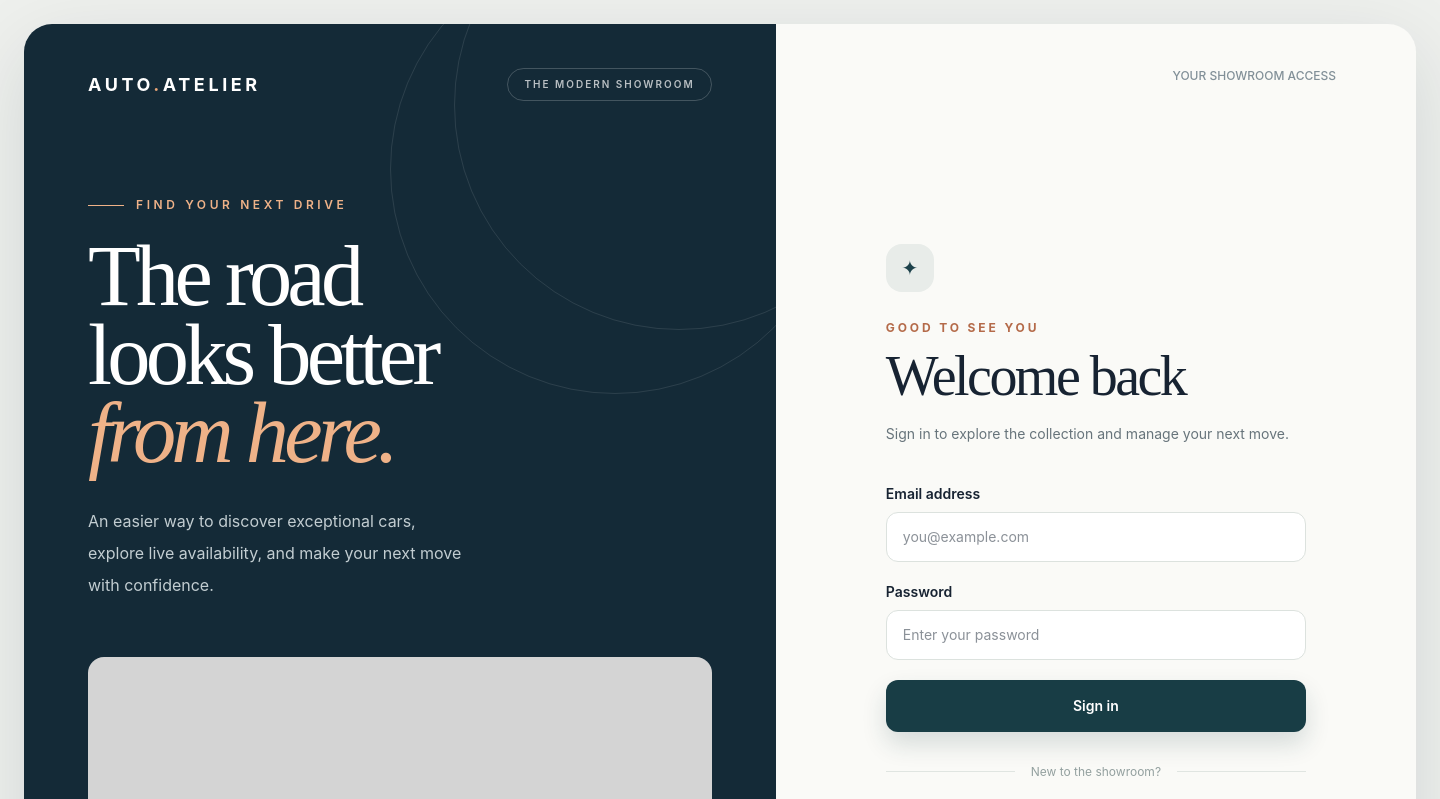
Scenario: authentication API › shows an error for incorrect credentials
In the field labelled "Email address": (1096, 537) [886,512,1306,562], type "driver@example.com"
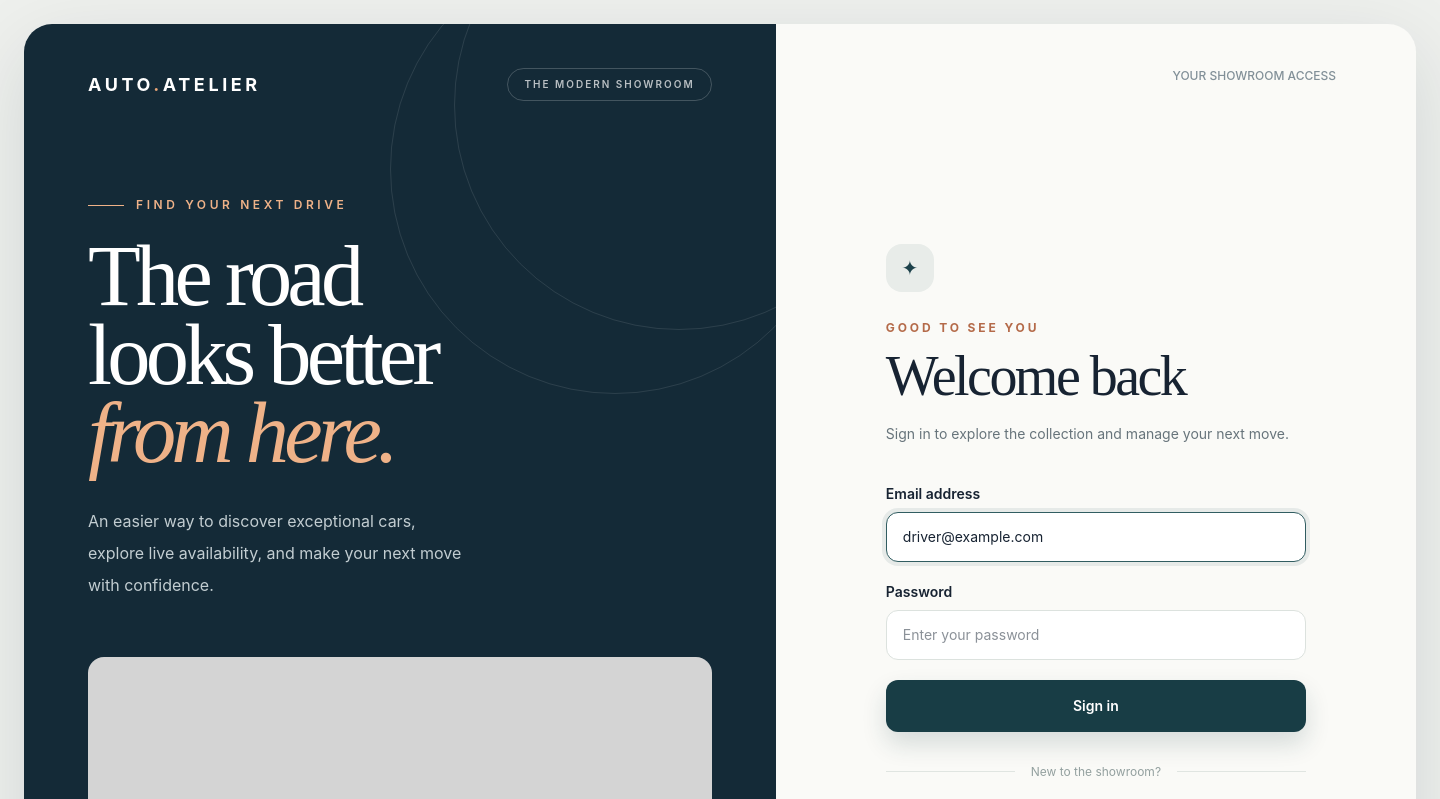
In the password field labelled "Password": (1096, 635) [886,610,1306,660], type "wrong-password"
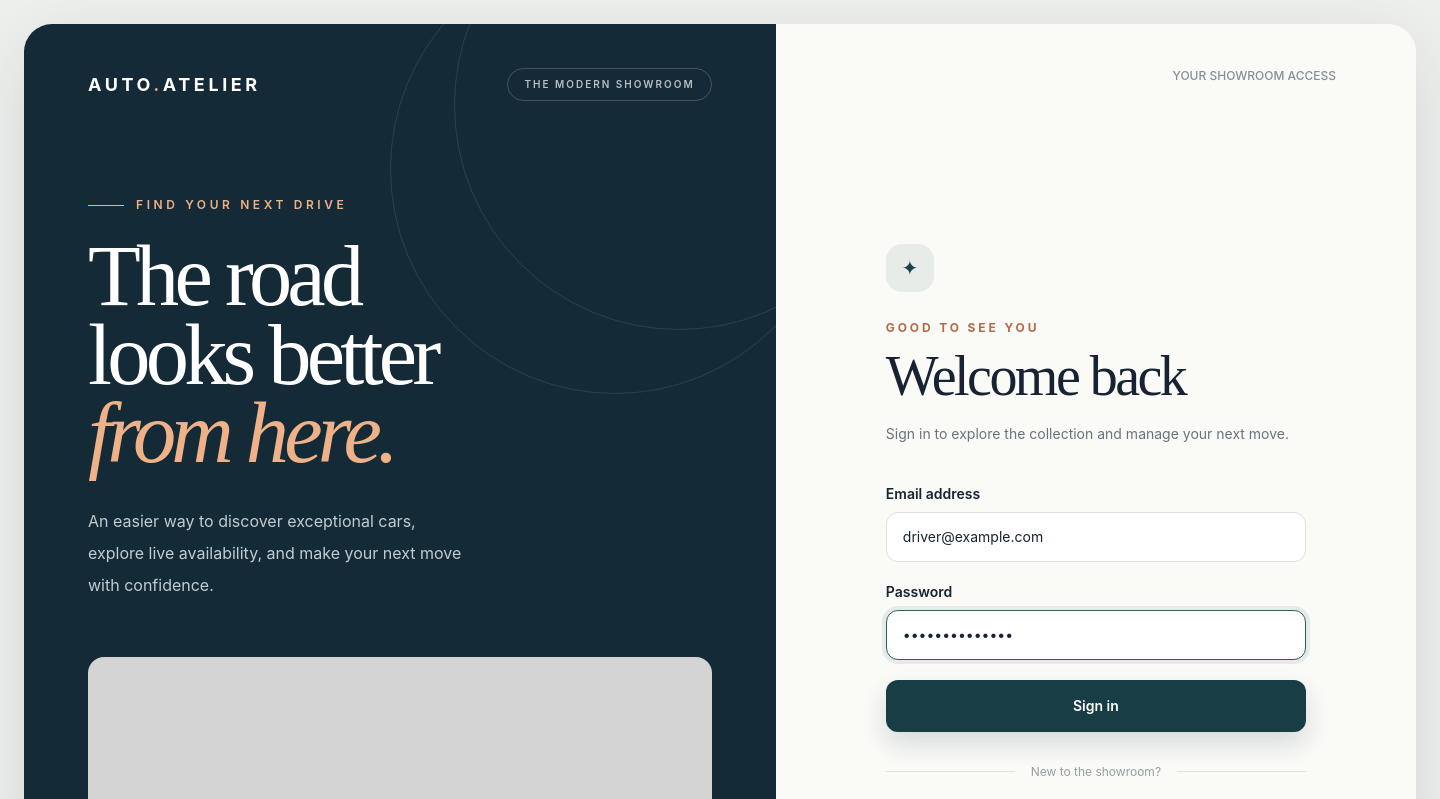
Click the button "Sign in": (1096, 706) [886,680,1306,732]
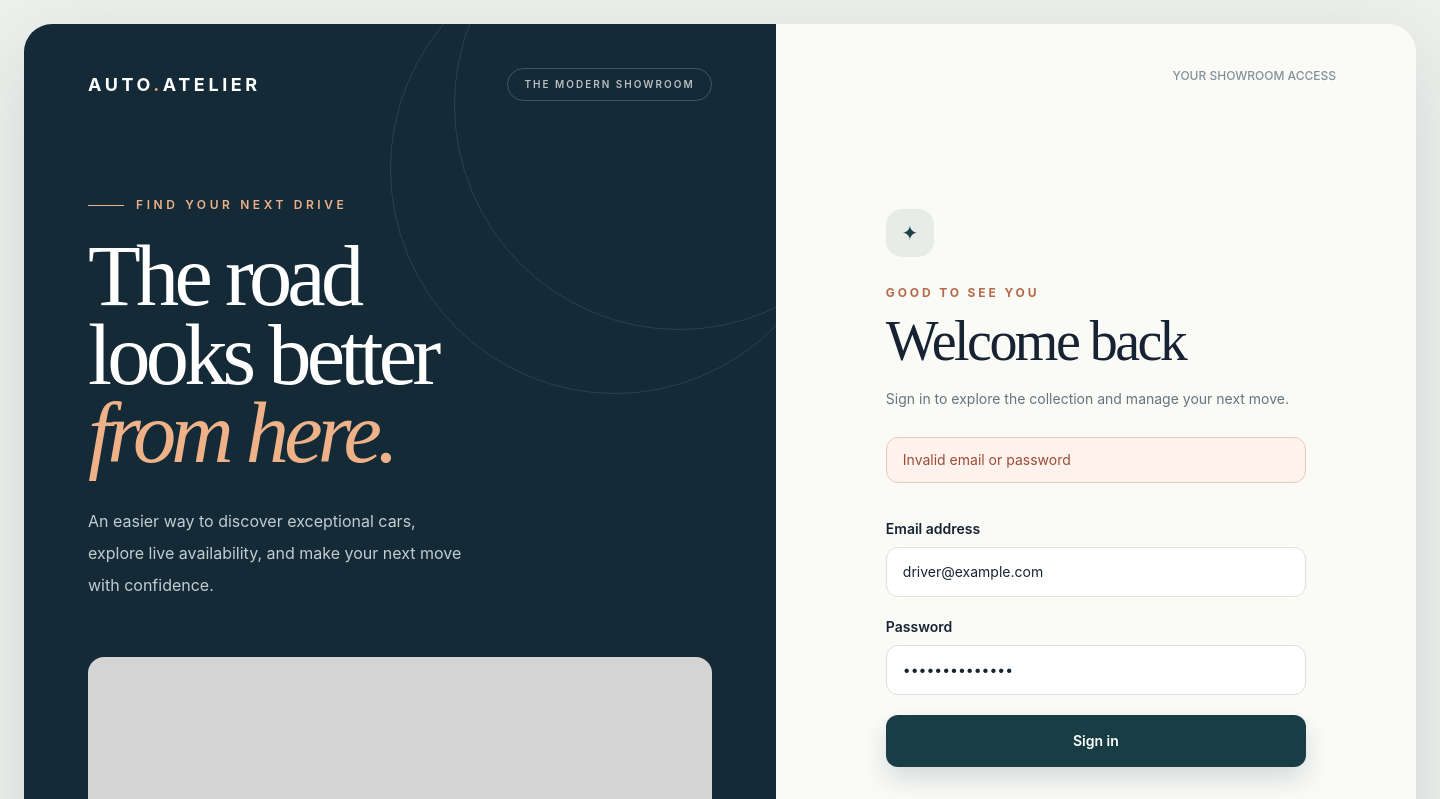
Expected: the message reads "Invalid email or password", [903,451,1071,468]
